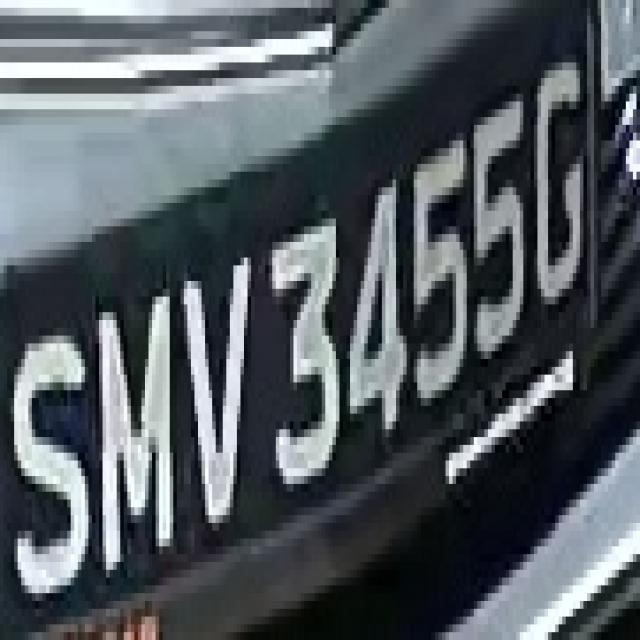3: (262, 218, 343, 508)
4: (336, 180, 414, 476)
5: (453, 86, 534, 343), (396, 140, 467, 406)
G: (527, 39, 587, 343)
M: (81, 273, 177, 578)
S: (7, 289, 85, 624)
V: (170, 250, 262, 546)
